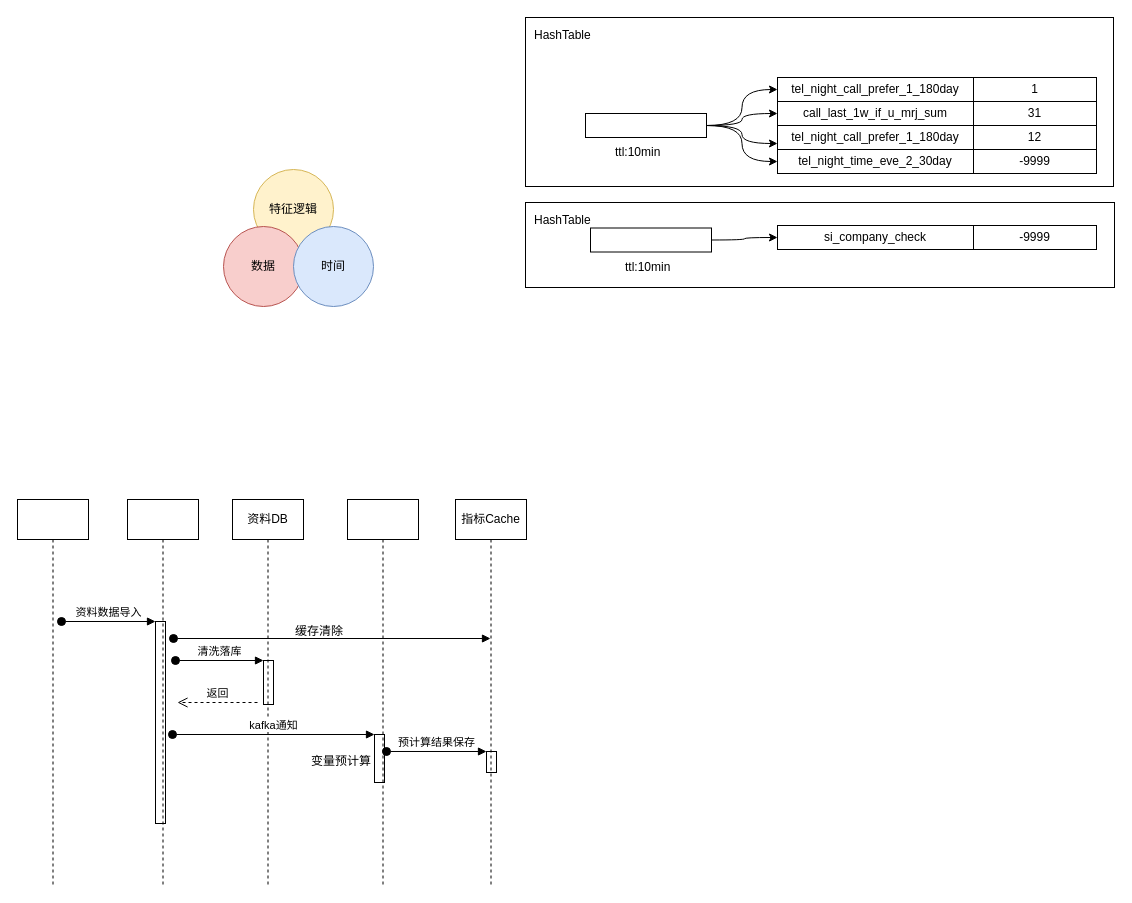
Some shapes in this 1132 by 903 pixel diagram are drawn without their labels. Here are the shapes that lost their labels. From the top down, the box of each, then its label:
(584, 112, 706, 138): uid_cell
(590, 227, 712, 252): uid_ss_flow
(16, 498, 88, 886): 业务方
(126, 498, 198, 886): 事件中心
(346, 498, 418, 886): 指标预计算
